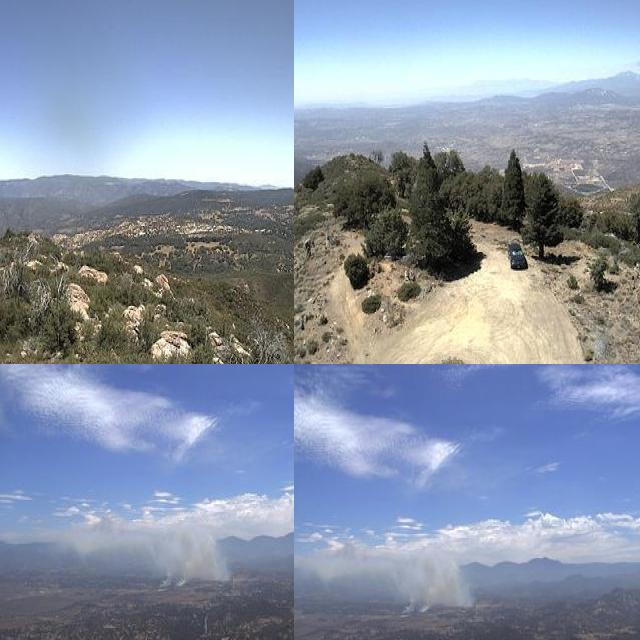smoke: (79, 512, 232, 584), (322, 538, 475, 610)
